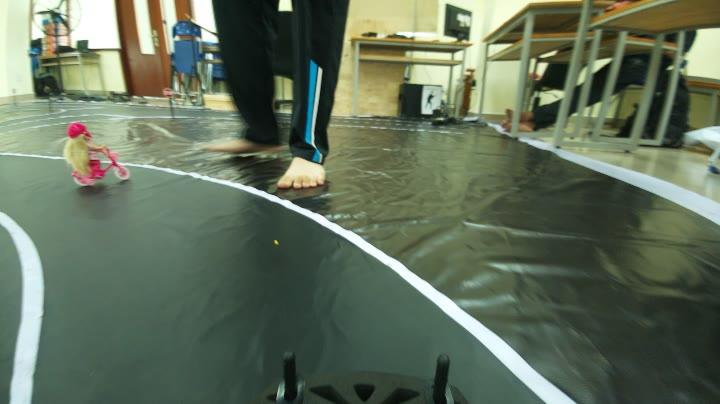pedestrian: (44, 125, 135, 194)
